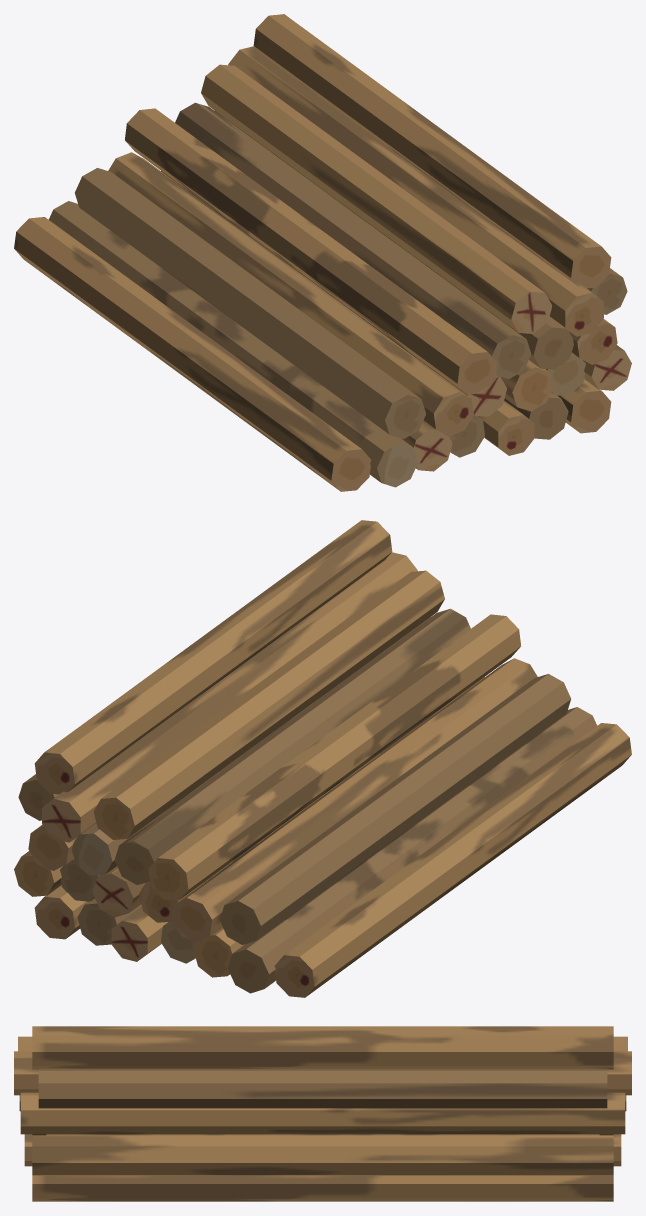
Rendered from SM_Prop_LogPile_Small_Slope_01.fbx.
3 renders of one model, top to bottom at view 1: azimuth 30°, elevation 25°; view 2: azimuth 150°, elevation 25°; view 3: azimuth 270°, elevation 25°, orthographic. The views are drawn at different scales.
Parts seen in each view (by area): view 1: SM_Prop_LogPile_Small_Slope_01; view 2: SM_Prop_LogPile_Small_Slope_01; view 3: SM_Prop_LogPile_Small_Slope_01.
Part boxes in pixels (bbox=[...]): SM_Prop_LogPile_Small_Slope_01: bbox=[14, 14, 631, 491]; SM_Prop_LogPile_Small_Slope_01: bbox=[14, 520, 631, 997]; SM_Prop_LogPile_Small_Slope_01: bbox=[14, 1026, 631, 1201].
Bounding box in the file's own units: 519 × 308 × 1009.
